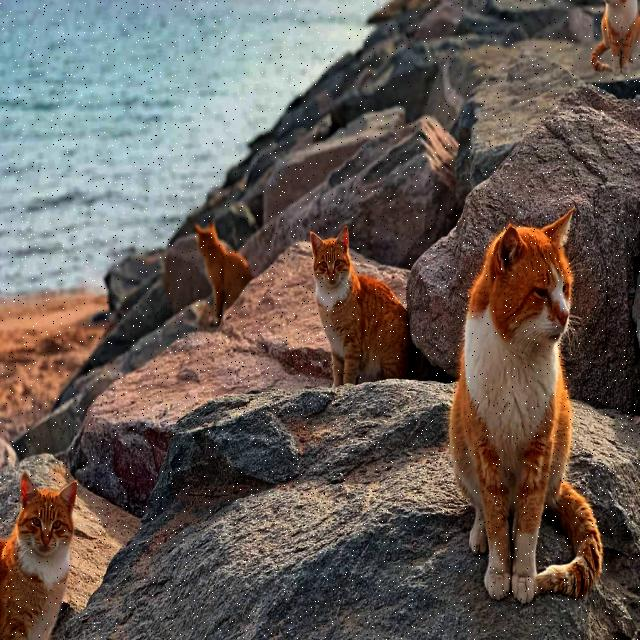cat: (449, 208, 602, 604), (310, 225, 411, 385), (0, 472, 78, 638), (195, 221, 251, 323), (591, 0, 640, 74)
